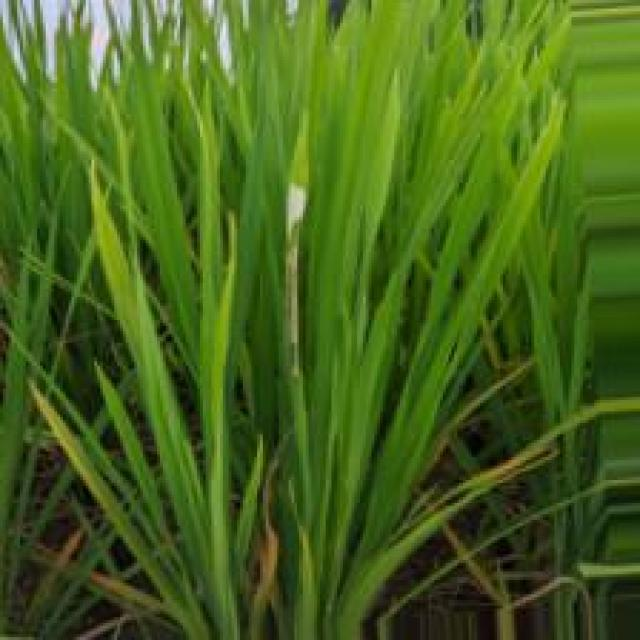HealthyLeaf: (303, 76, 453, 590)
